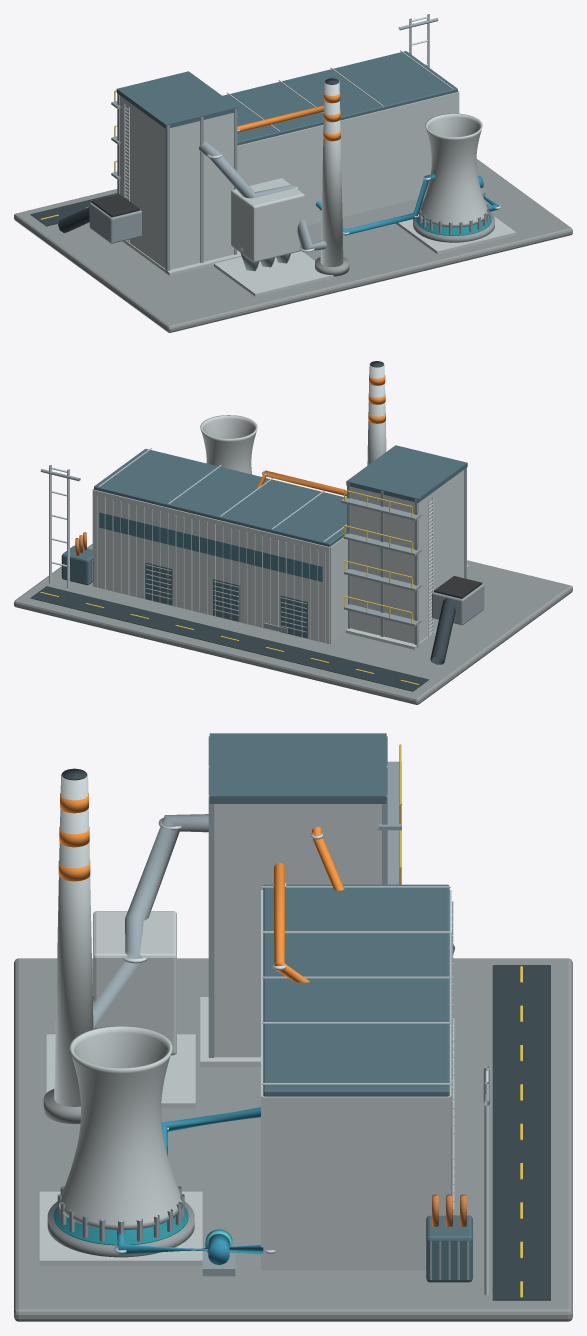
Rendered from thermal-power.glb.
The picture shows the model from 3 angles, top to bottom: view 1: azimuth 30°, elevation 25°; view 2: azimuth 150°, elevation 25°; view 3: azimuth 270°, elevation 25°; orthographic projection. The views are drawn at different scales.
Visible parts, largest first — view 1: site__concrete, hall_shell__wall, boiler_shell__wall, hall_shell__roof, cooling_tower__wall, flue_filter__wall, site__wall, boiler_shell__roof, stack__wall, boiler_shell__steel, flue_duct__steel, coal_supply__steel (+12 smaller); view 2: site__concrete, hall_shell__wall, hall_shell__roof, boiler_shell__wall, site__dark, hall_shell__silver, boiler_shell__roof, boiler_shell__steel, hall_shell__glass, cooling_tower__wall, stack__wall, coal_supply__steel (+8 smaller); view 3: site__concrete, hall_shell__roof, hall_shell__wall, boiler_shell__wall, site__dark, cooling_tower__wall, boiler_shell__roof, stack__wall, flue_filter__wall, site__wall, flue_duct__steel, boiler_shell__steel (+10 smaller).
Boxes of the visible parts, box(x1,y1,x2,y2) form: site__concrete: box(14, 158, 572, 332); hall_shell__wall: box(237, 91, 459, 225); boiler_shell__wall: box(120, 96, 234, 269); hall_shell__roof: box(222, 51, 457, 145); cooling_tower__wall: box(420, 113, 488, 227); flue_filter__wall: box(231, 178, 304, 262); site__wall: box(122, 216, 516, 296); boiler_shell__roof: box(116, 71, 237, 128); stack__wall: box(320, 81, 343, 266); boiler_shell__steel: box(111, 94, 237, 273); flue_duct__steel: box(199, 142, 326, 251); coal_supply__steel: box(89, 202, 141, 243); site__concrete: box(14, 544, 572, 704); hall_shell__wall: box(92, 488, 347, 643); hall_shell__roof: box(94, 449, 346, 638); boiler_shell__wall: box(350, 470, 464, 643); site__dark: box(30, 586, 429, 691); hall_shell__silver: box(96, 448, 346, 643); boiler_shell__roof: box(346, 445, 467, 502); boiler_shell__steel: box(341, 468, 466, 647); hall_shell__glass: box(99, 512, 322, 581); cooling_tower__wall: box(200, 415, 257, 474); stack__wall: box(367, 363, 386, 465); coal_supply__steel: box(432, 584, 484, 624); site__concrete: box(14, 958, 572, 1321); hall_shell__roof: box(263, 884, 451, 1194); hall_shell__wall: box(261, 890, 451, 1270); boiler_shell__wall: box(214, 804, 381, 1057); site__dark: box(492, 965, 550, 1300); cooling_tower__wall: box(59, 1026, 183, 1229); boiler_shell__roof: box(209, 733, 386, 803); stack__wall: box(54, 773, 93, 1106); flue_filter__wall: box(93, 911, 176, 1055); site__wall: box(39, 997, 260, 1265); flue_duct__steel: box(92, 814, 208, 1028); boiler_shell__steel: box(208, 736, 401, 1057).
Size of the model in its own units: 18 by 8.35 by 12.
